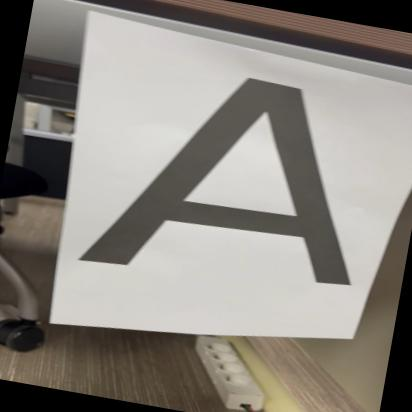seat: (72, 35, 402, 318)
